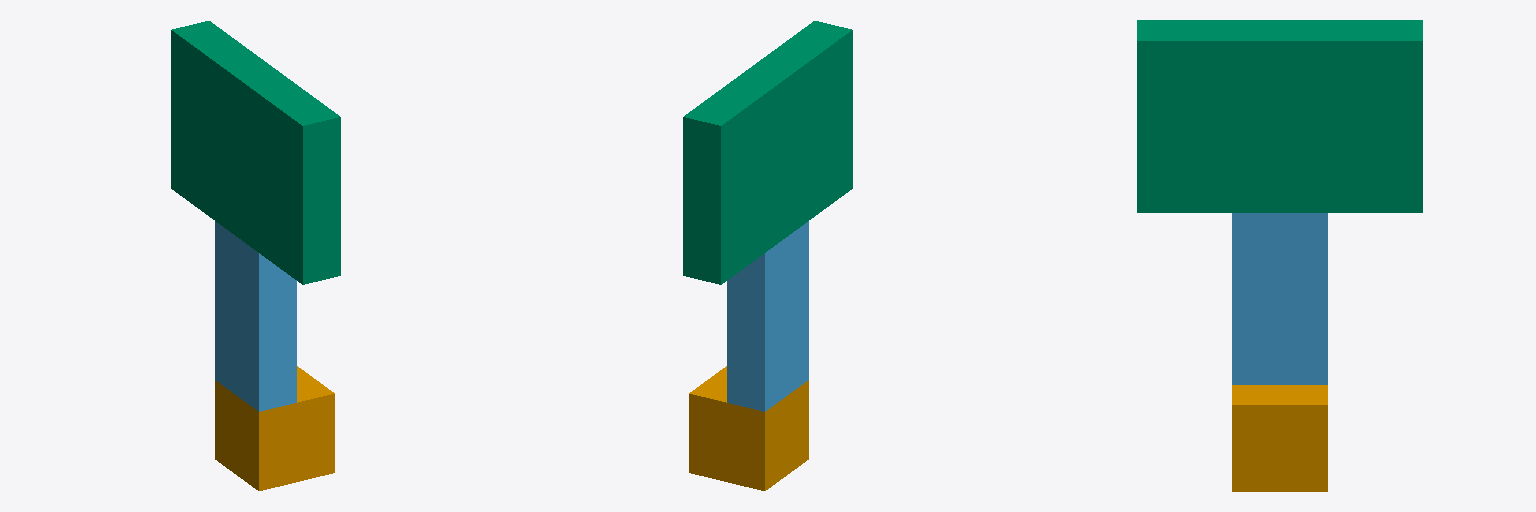
robot.urdf — threeLinkHuman_subject1:
<robot name="threeLinkHuman_subject1">
    <link name="foot">
        <inertial>
            <mass value="1"/>
            <origin xyz="0 0 0" rpy="0 0 0" />
            <inertia ixx="0.0017" iyy="0.0017" izz="0.0017" ixy="0" ixz="0" iyz="0"/>
        </inertial>

        <visual>
            <geometry>
                <box size="0.1 0.1 0.1"/>
            </geometry>
        </visual>

        <collision>
            <geometry>
                <box size="0.1 0.1 0.1"/>
            </geometry>
        </collision>
    </link>
    
    <link name="leg">
        <inertial>
            <mass value="2"/>
            <origin xyz="0 0 0.1" rpy="0 0 0" />
            <inertia ixx="0.008333" iyy="0.0070" izz="0.002" ixy="0" ixz="0" iyz="0"/>
        </inertial>

        <visual>
            <origin xyz="0 0 0.1" rpy="0 0 0" />
            <geometry>
                <box size="0.05 0.1 0.2"/>
            </geometry>
        </visual>

        <collision>
            <origin xyz="0 0 0.1" rpy="0 0 0" />
            <geometry>
                <box size="0.05 0.1 0.2"/>
            </geometry>
        </collision>
    </link>
    
    <link name="torso">
        <inertial>
            <mass value="2"/>
            <origin xyz="0 0 0.1" rpy="0 0 0" />
            <inertia ixx="0.021667" iyy="0.0070" izz="0.015417" ixy="0" ixz="0" iyz="0"/>
        </inertial>

        <visual>
            <origin xyz="0 0 0.1" rpy="0 0 0" />
            <geometry>
                <box size="0.05 0.3 0.2"/>
            </geometry>
        </visual>

        <collision>
            <origin xyz="0 0 0.1" rpy="0 0 0" />
            <geometry>
                <box size="0.05 0.3 0.2"/>
            </geometry>
        </collision>
    </link>
        
    <joint name="ankle" type="revolute">
        <origin xyz="-0.025 0.0 0.05" rpy="0 0 0"/>
        <parent link="foot"/>
        <child link="leg"/>
        <dynamics damping="0.1" friction="0.0"/>
        <limit effort="30" velocity="1.0" lower="-10.0" upper="10.0" />
        <axis xyz="0 1 0" />
    </joint>
    
    <joint name="hip" type="revolute">
        <origin xyz="0.0 0.0 0.2" rpy="0 0 0"/>
        <parent link="leg"/>
        <child link="torso"/>
        <dynamics damping="0.1" friction="0.0"/>
        <limit effort="30" velocity="1.0" lower="-10.0" upper="10.0" />
        <axis xyz="0 1 0" />
    </joint>

</robot>

--- Render facts (derived) ---
The picture shows the robot from 3 angles, left to right: view 1: azimuth 30°, elevation 25°; view 2: azimuth 150°, elevation 25°; view 3: azimuth 270°, elevation 25°; orthographic projection.
Model threeLinkHuman_subject1 with 3 links and 2 joints (2 revolute), rooted at foot, posed all joints at 0.
Links seen in each view (by area): view 1: torso, leg, foot; view 2: torso, leg, foot; view 3: torso, leg, foot.
Boxes of the visible links, x1=… form: torso: x1=171, y1=21, x2=340, y2=284; leg: x1=215, y1=221, x2=296, y2=411; foot: x1=215, y1=366, x2=334, y2=490; torso: x1=683, y1=21, x2=852, y2=284; leg: x1=727, y1=221, x2=808, y2=411; foot: x1=689, y1=366, x2=808, y2=490; torso: x1=1137, y1=20, x2=1422, y2=212; leg: x1=1232, y1=213, x2=1327, y2=384; foot: x1=1232, y1=385, x2=1327, y2=491.
Bounding box of the posed robot: 0.1 × 0.3 × 0.5 m (x, y, z).
Geometry: primitives only (box / cylinder / sphere), no mesh files.